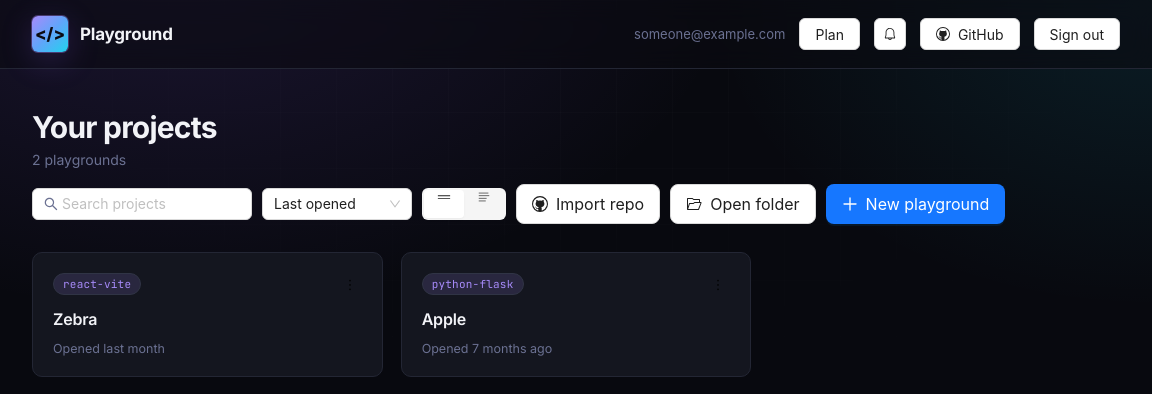
Test: Dashboard filtering and sorting › filters by name
expect the text "Zebra" is shown: met, box [53,309,97,329]
Type "app" into the field with placeholder "Search projects" at (143, 204), box [62,193,224,215]
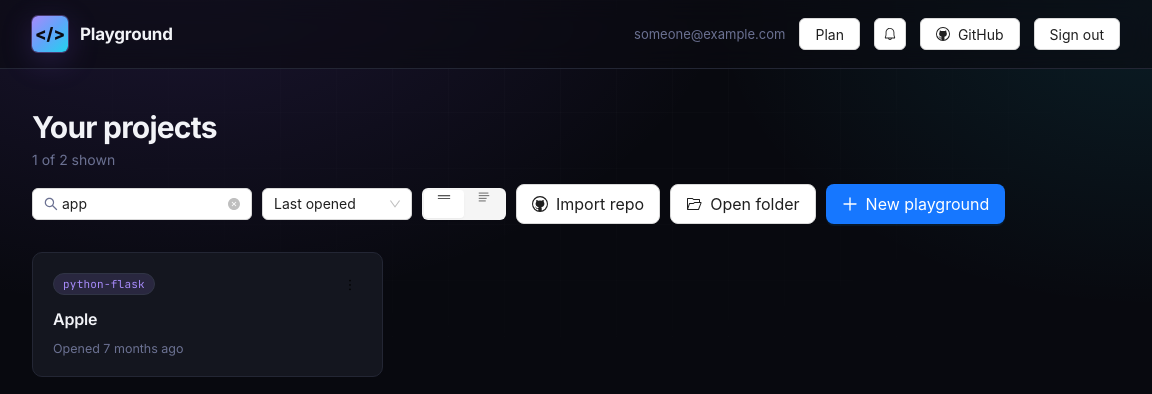
expect the text "Apple" is shown: met, box [53,309,97,329]
expect the button "Zebra" is gone: met
